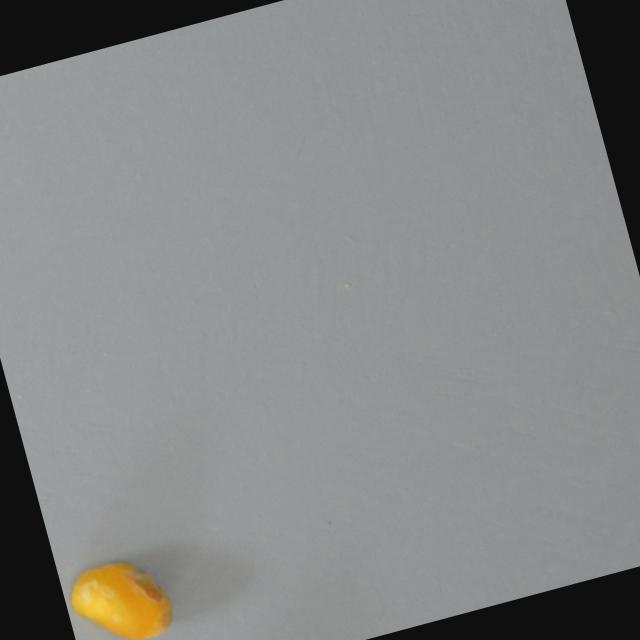dañado: (59, 547, 178, 640)
